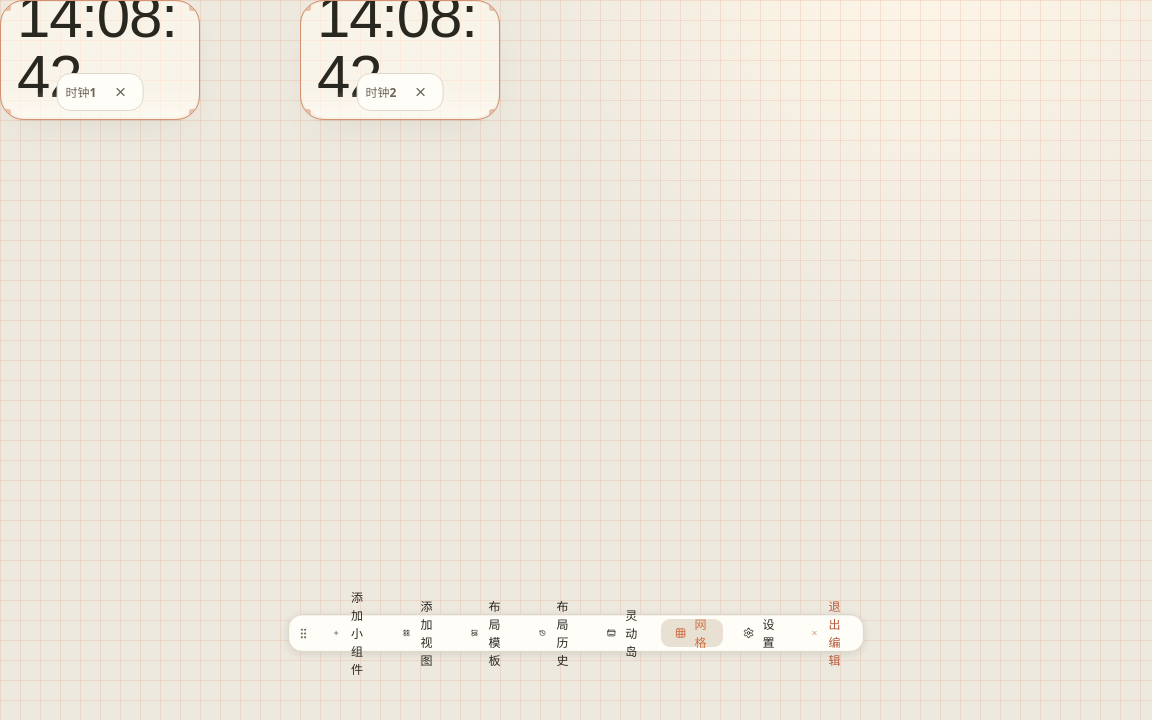
编辑工具栏弹层治理 › 模板列表最新在前：后保存的模板排在首行（与布局历史同口径）
This screenshot has width=1152, height=720.
Click the button "布局模板" at (488, 633), box [457,619,519,647]
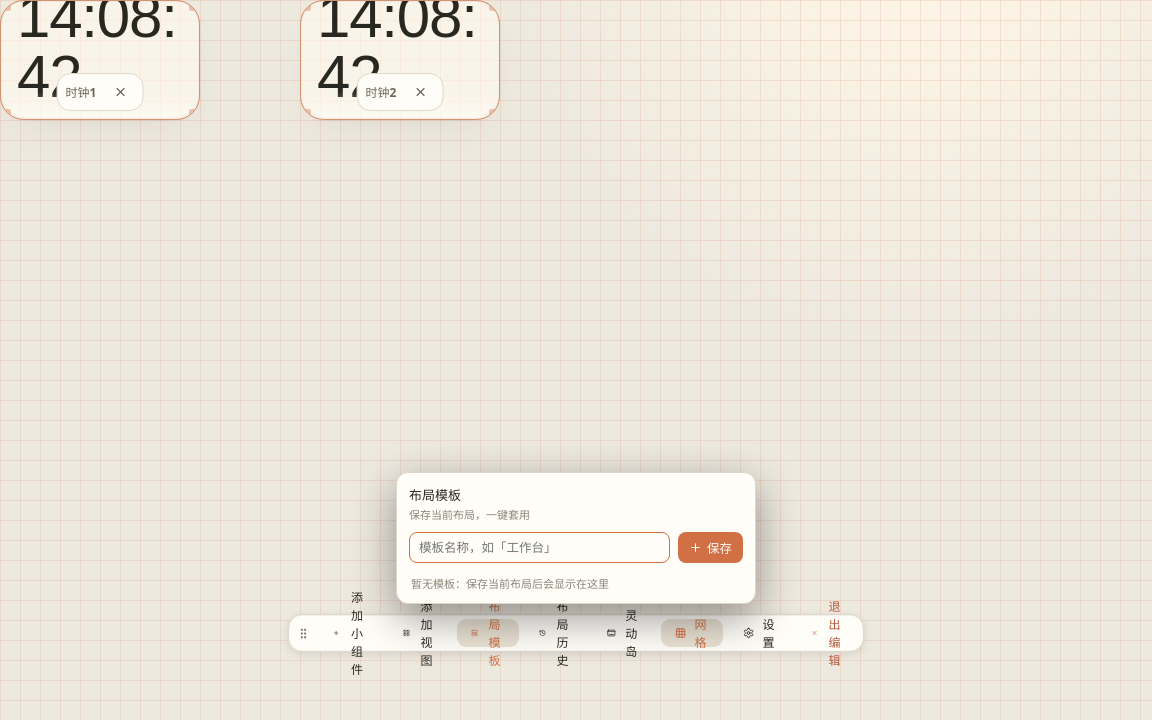
Check: the dialog "布局模板" is shown, box [396,472,756,604]
Type "第一个" into the field with placeholder "模板名称，如「工作台」" at (540, 548), box [409,532,670,563]
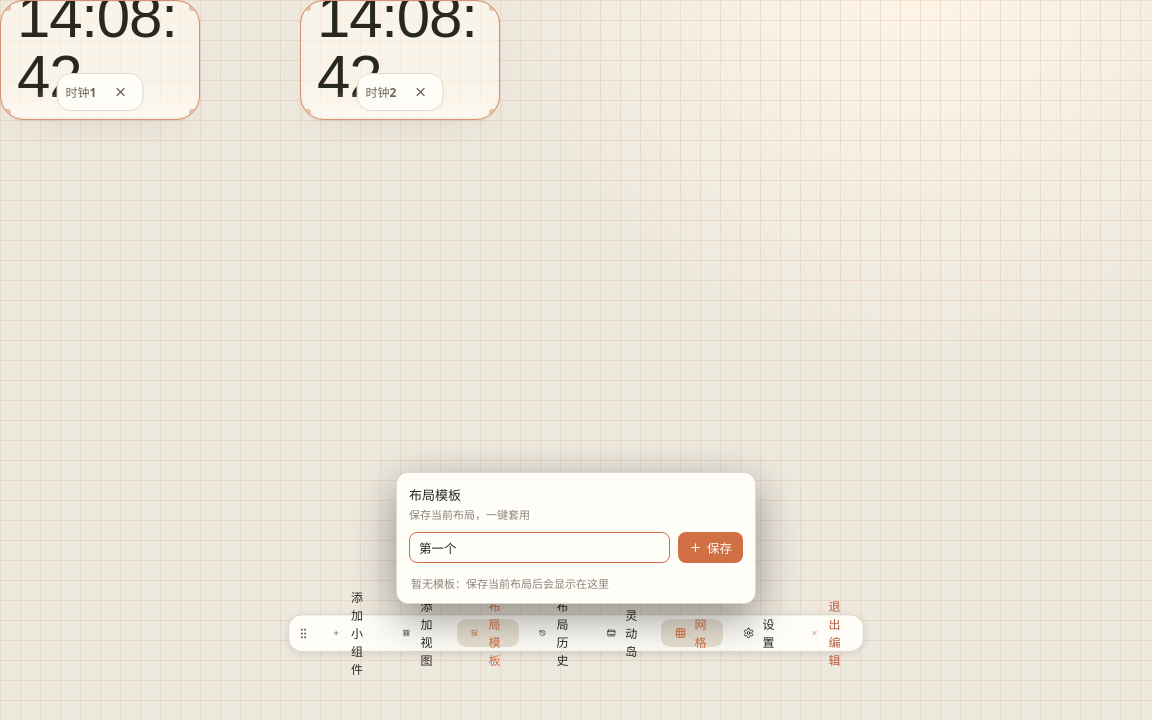
Press Enter in the field named "模板名称", box [409,532,670,563]
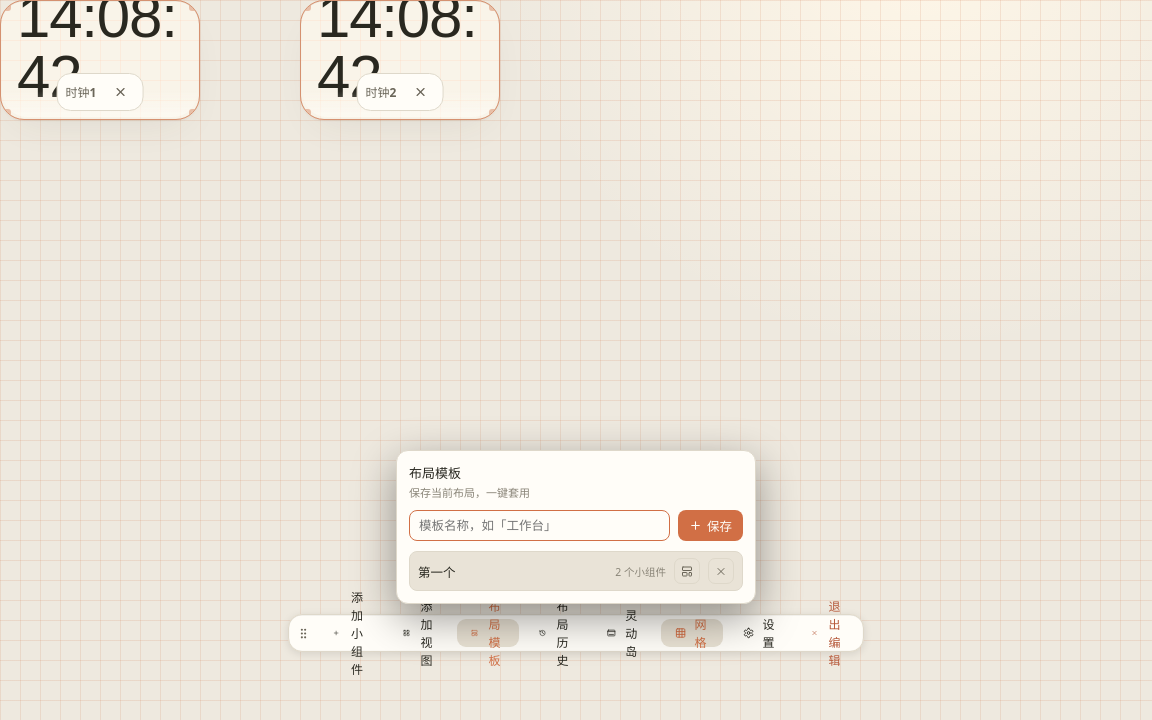
Type "第二个" into the field with placeholder "模板名称，如「工作台」" at (540, 526), box [409,510,670,541]
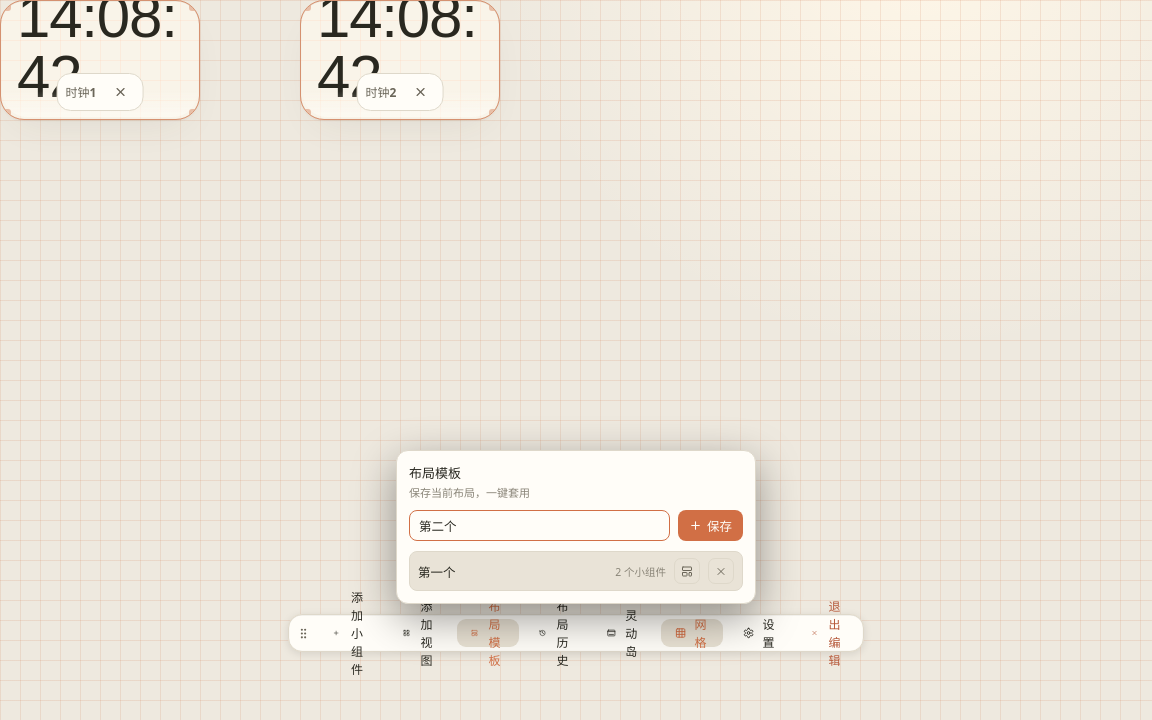
Press Enter in the field named "模板名称", box [409,510,670,541]
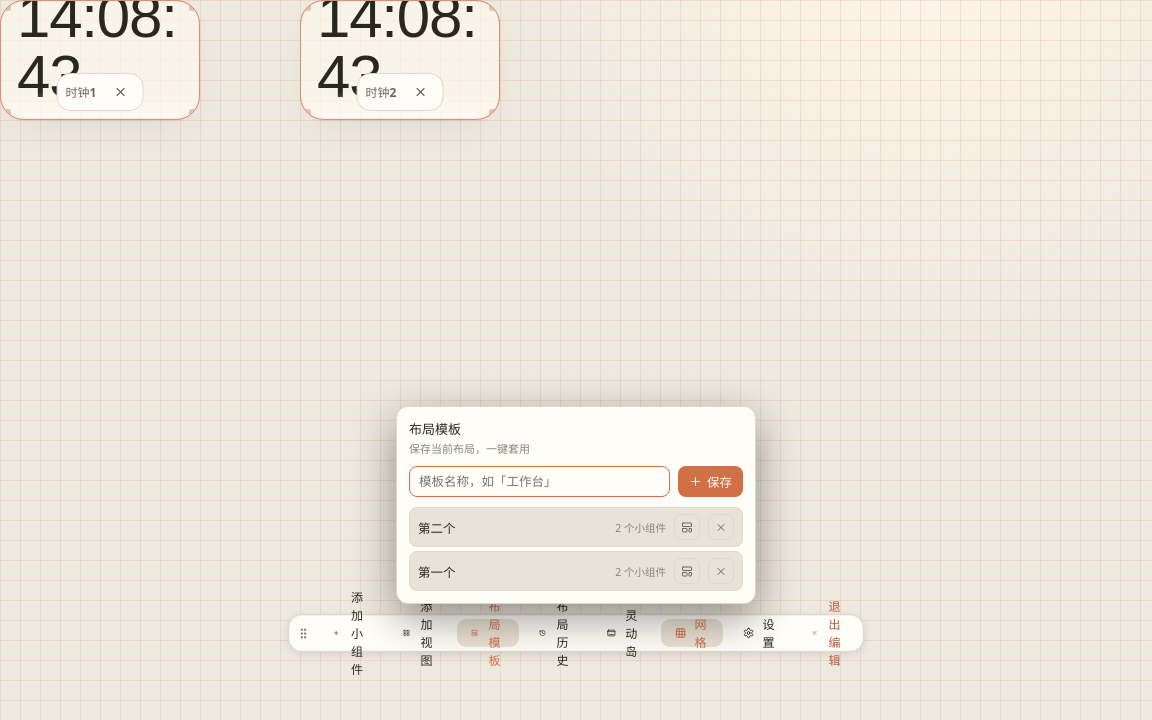
Check: the text with class "widget-template-row-name" reads "第一个", box [418,564,456,580]
Check: the text with class "widget-template-row-name" reads "第二个", box [418,520,456,536]
